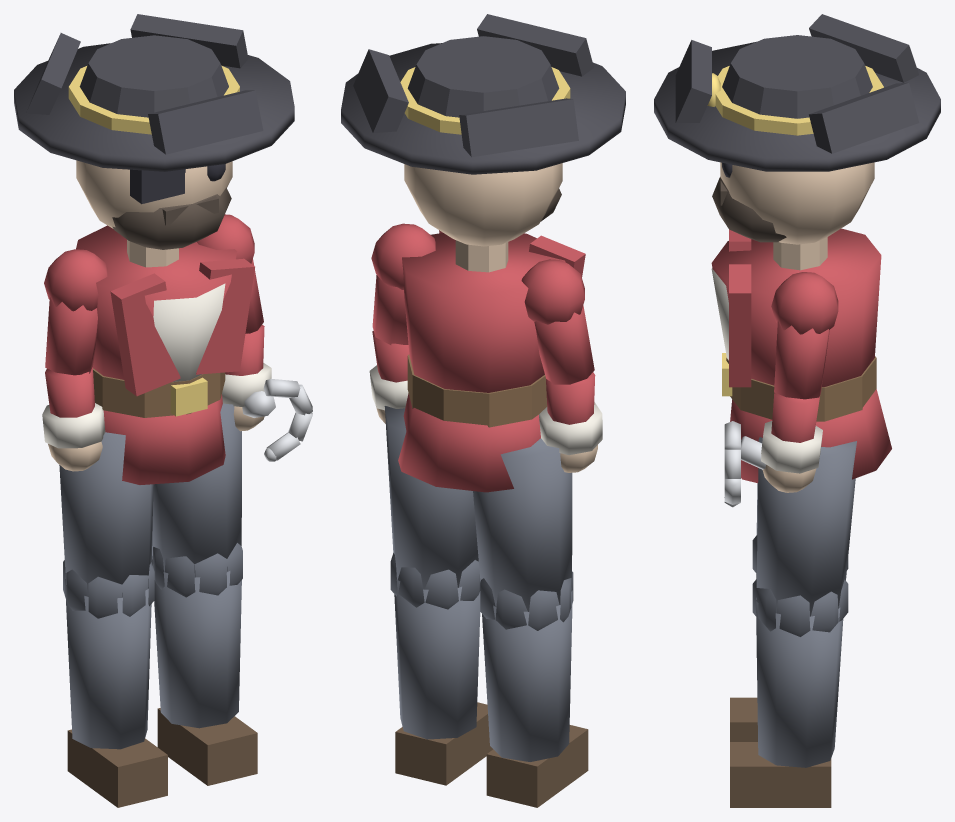
File: meeple_03_pirat_stand.glb
The picture shows the model from 3 angles, left to right: view 1: azimuth 30°, elevation 25°; view 2: azimuth 150°, elevation 25°; view 3: azimuth 270°, elevation 25°; orthographic projection.
Visible parts, largest first — view 1: meeple_03_pirat_stand; view 2: meeple_03_pirat_stand; view 3: meeple_03_pirat_stand.
Part boxes in pixels (bbox=[...]): meeple_03_pirat_stand: bbox=[14, 14, 312, 807]; meeple_03_pirat_stand: bbox=[341, 14, 625, 807]; meeple_03_pirat_stand: bbox=[654, 14, 940, 807].
Bounding box in the file's own units: 0.5801 × 1.58 × 0.58.
